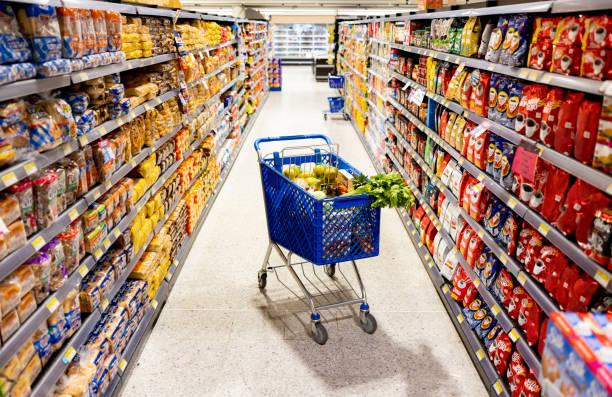Cart: (255, 135, 379, 344)
article: (345, 172, 413, 207), (32, 171, 59, 228), (539, 88, 563, 145), (503, 81, 522, 129), (48, 306, 66, 349), (442, 250, 458, 279)
